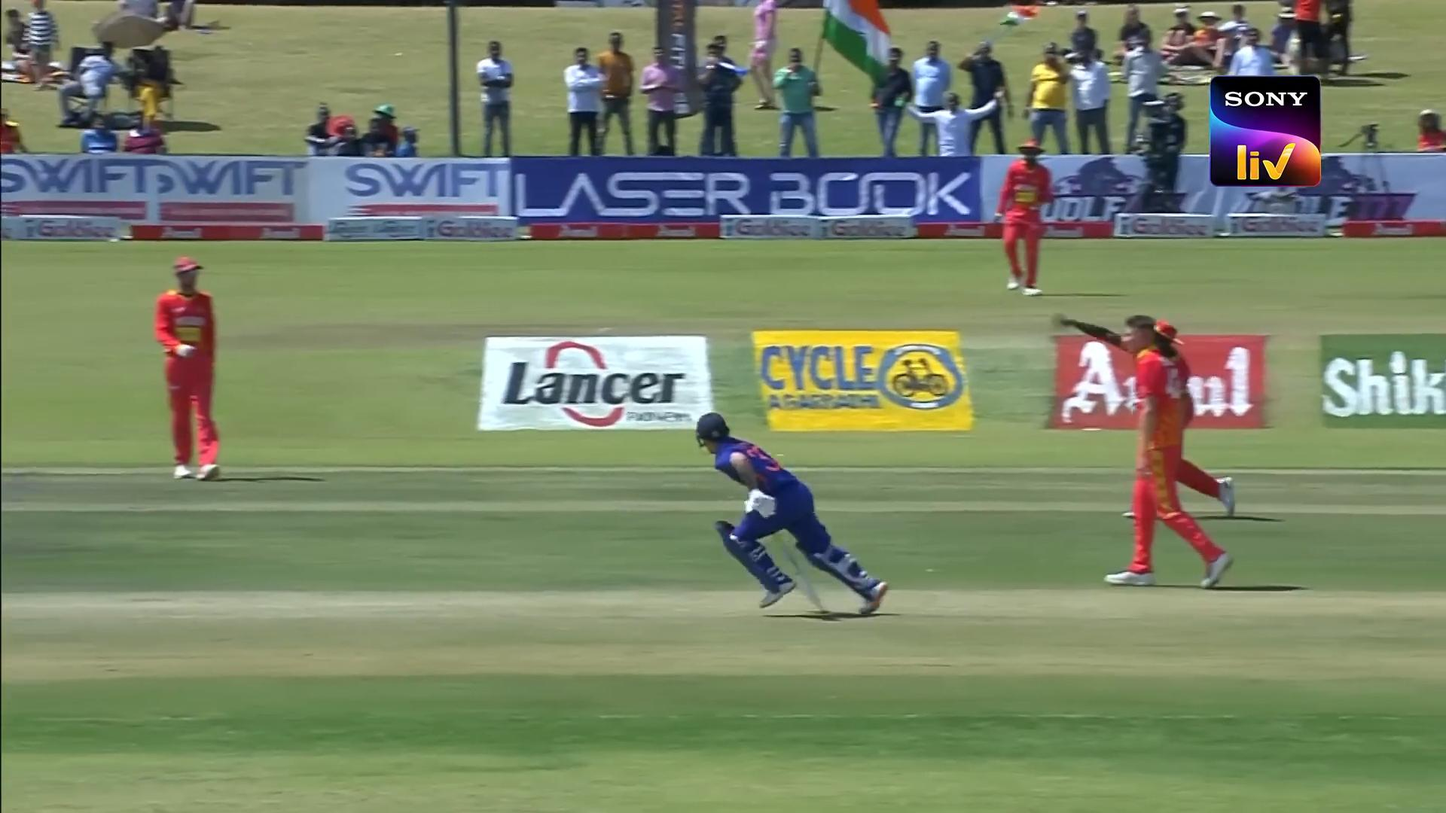batsman: (695, 412, 889, 622)
